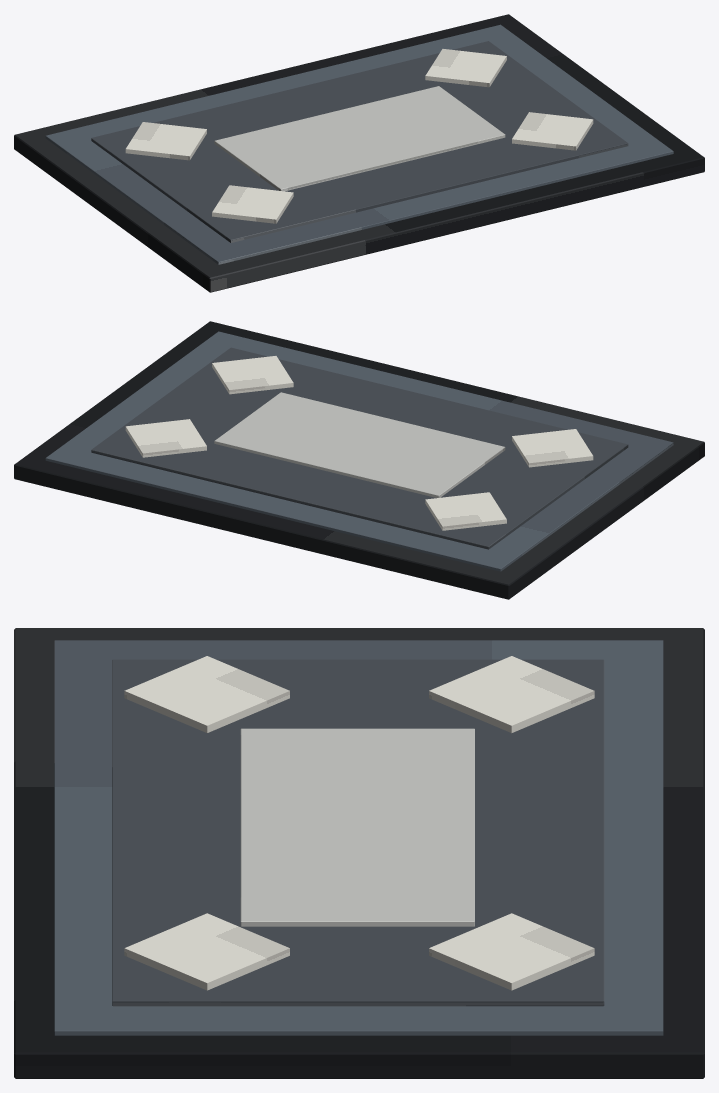
Rendered from bedroom_rug_charcoal.glb.
The picture shows the model from 3 angles, top to bottom: view 1: azimuth 30°, elevation 25°; view 2: azimuth 150°, elevation 25°; view 3: azimuth 270°, elevation 25°; orthographic projection. The views are drawn at different scales.
Parts seen in each view (by area): view 1: RugField, RugBase, RugBorderOuter, RugCenter, RugDiamond_0.52_-0.26, RugDiamond_-0.52_-0.26, RugDiamond_0.52_0.26, RugDiamond_-0.52_0.26; view 2: RugField, RugBase, RugBorderOuter, RugCenter, RugDiamond_0.52_0.26, RugDiamond_-0.52_0.26, RugDiamond_0.52_-0.26, RugDiamond_-0.52_-0.26; view 3: RugField, RugBase, RugBorderOuter, RugCenter, RugDiamond_0.52_0.26, RugDiamond_0.52_-0.26, RugDiamond_-0.52_0.26, RugDiamond_-0.52_-0.26.
Part boxes in pixels (bbox=[...]): RugField: bbox=[91, 41, 628, 242]; RugBase: bbox=[14, 14, 704, 292]; RugBorderOuter: bbox=[45, 24, 673, 264]; RugCenter: bbox=[214, 86, 505, 191]; RugDiamond_0.52_-0.26: bbox=[512, 112, 593, 150]; RugDiamond_-0.52_-0.26: bbox=[212, 185, 293, 223]; RugDiamond_0.52_0.26: bbox=[425, 49, 506, 87]; RugDiamond_-0.52_0.26: bbox=[125, 122, 206, 160]; RugField: bbox=[91, 347, 628, 549]; RugBase: bbox=[14, 321, 704, 599]; RugBorderOuter: bbox=[45, 331, 673, 571]; RugCenter: bbox=[214, 392, 505, 497]; RugDiamond_0.52_0.26: bbox=[125, 419, 206, 457]; RugDiamond_-0.52_0.26: bbox=[425, 492, 506, 530]; RugDiamond_0.52_-0.26: bbox=[212, 356, 293, 394]; RugDiamond_-0.52_-0.26: bbox=[512, 429, 593, 467]; RugField: bbox=[112, 659, 604, 1006]; RugBase: bbox=[14, 628, 704, 1078]; RugBorderOuter: bbox=[54, 640, 663, 1035]; RugCenter: bbox=[240, 728, 474, 926]; RugDiamond_0.52_0.26: bbox=[429, 913, 594, 990]; RugDiamond_0.52_-0.26: bbox=[124, 913, 289, 990]; RugDiamond_-0.52_0.26: bbox=[429, 656, 594, 732]; RugDiamond_-0.52_-0.26: bbox=[124, 656, 289, 732].
Size of the model in its own units: 1.72 by 0.089 by 1.18.
Materials: 1 (1 with a texture image).
